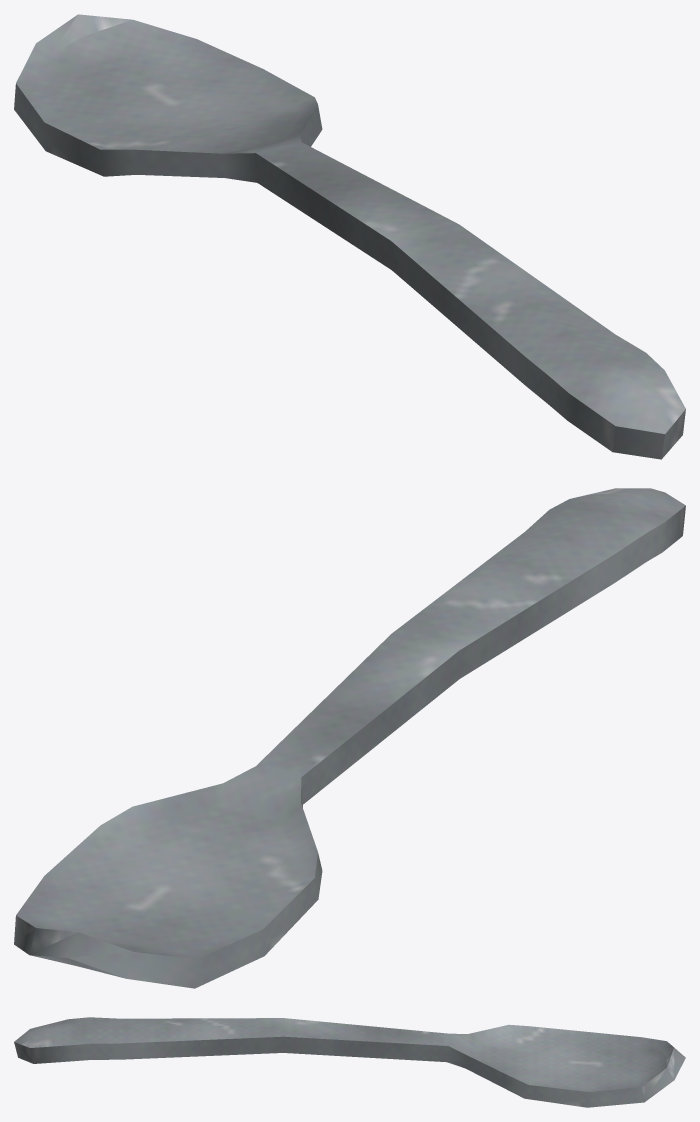
Rendered from CutlerySpoonTea.fbx.
The picture shows the model from 3 angles, top to bottom: view 1: azimuth 30°, elevation 25°; view 2: azimuth 150°, elevation 25°; view 3: azimuth 270°, elevation 25°; orthographic projection. The views are drawn at different scales.
Parts seen in each view (by area): view 1: CutlerySpoonTea; view 2: CutlerySpoonTea; view 3: CutlerySpoonTea.
Boxes of the visible parts, x1,y1,x2,y2 form: CutlerySpoonTea: [14, 14, 685, 459]; CutlerySpoonTea: [14, 488, 685, 988]; CutlerySpoonTea: [14, 1017, 685, 1107].
Bounding box in the file's own units: 0.0288 × 0.0116 × 0.1361.
1 material, 1 textured.
